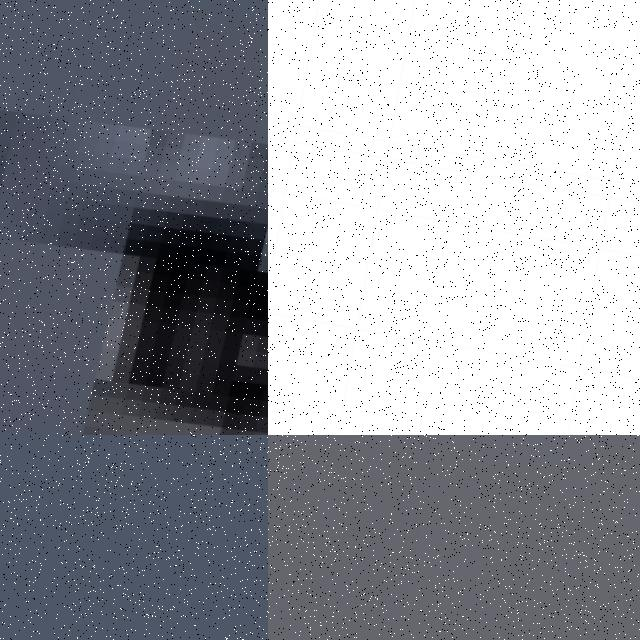drone: (0, 0, 268, 435)
